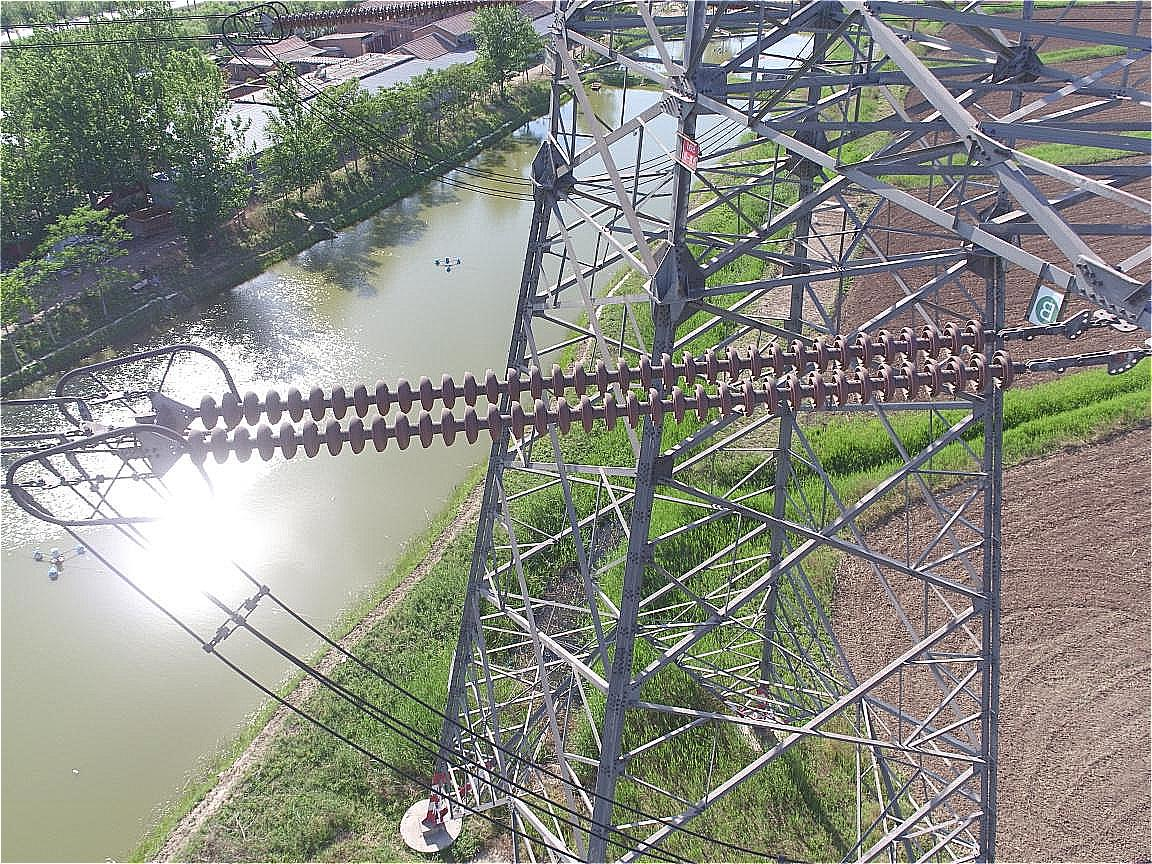insultor1: (186, 320, 1023, 468)
